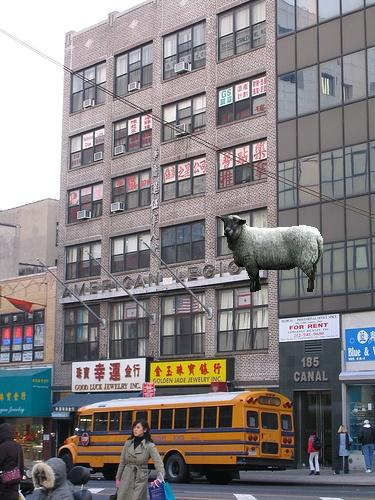tampered: (218, 215, 323, 292)
